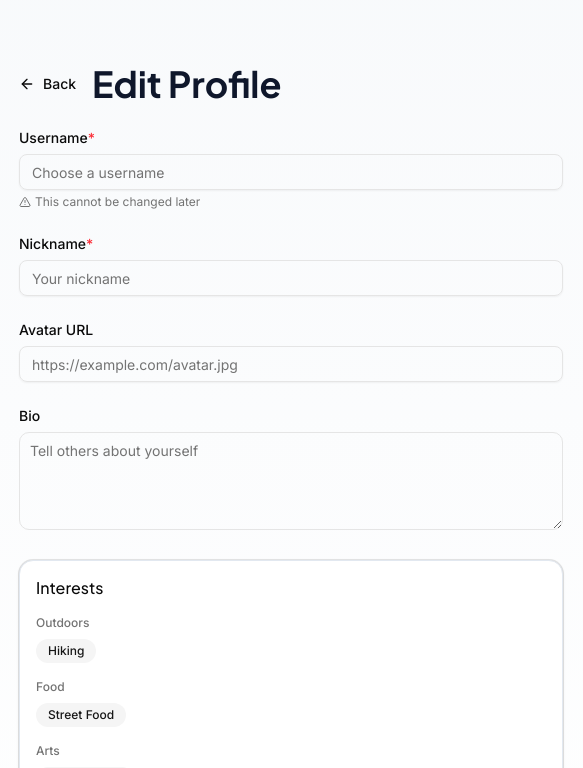
Test case: EditProfilePage › shows server error for username_taken (409)
The image size is (583, 768).
Type "taken" into the field with placeholder "Choose a username" at (291, 172), box [19,154,563,190]
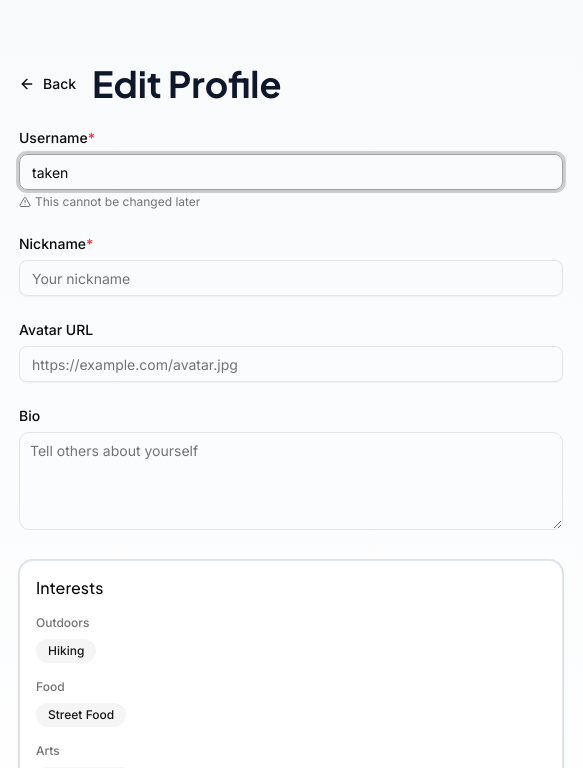
Type "New User" into the field with placeholder "Your nickname" at (291, 278), box [19,260,563,296]
(page scrolled)
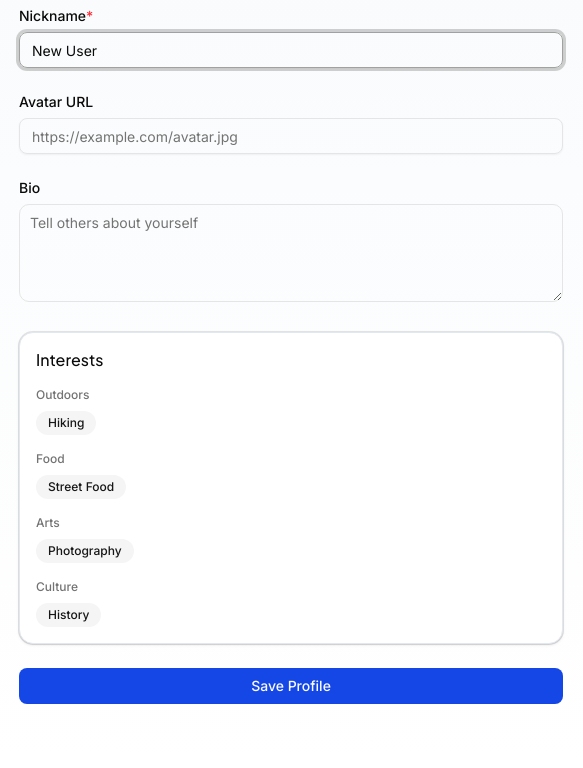
Click the button "Save Profile" at (291, 686), box [19,668,563,704]
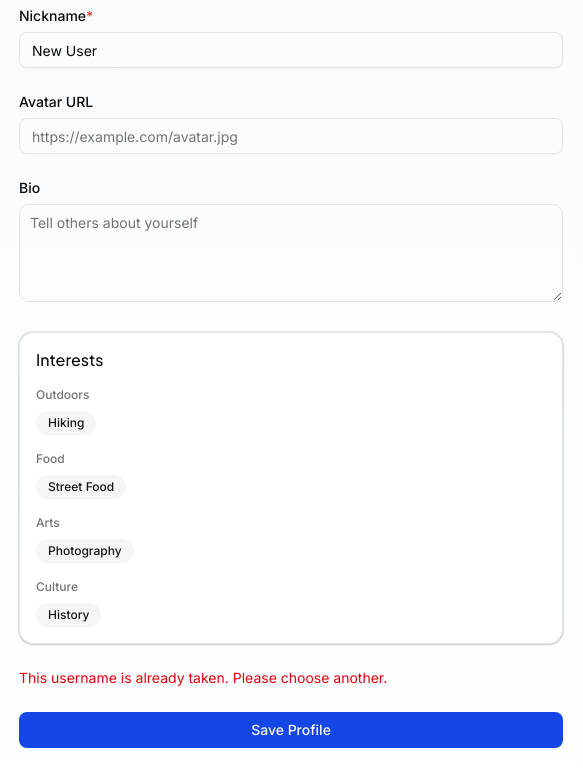
Expected: the message shows "username is already taken", [19,669,387,686]
